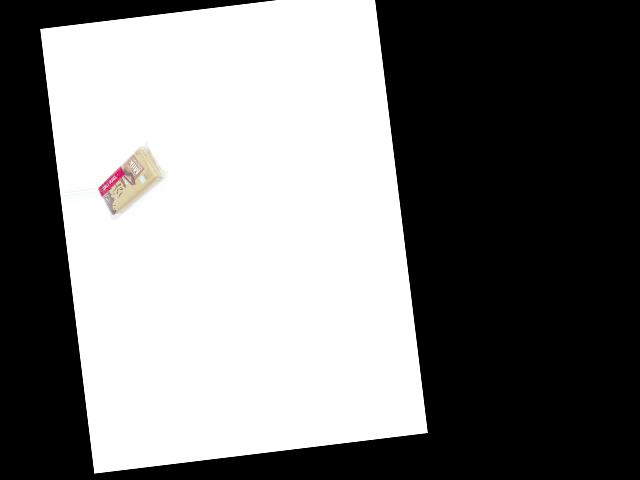chocolate: (93, 136, 168, 217)
